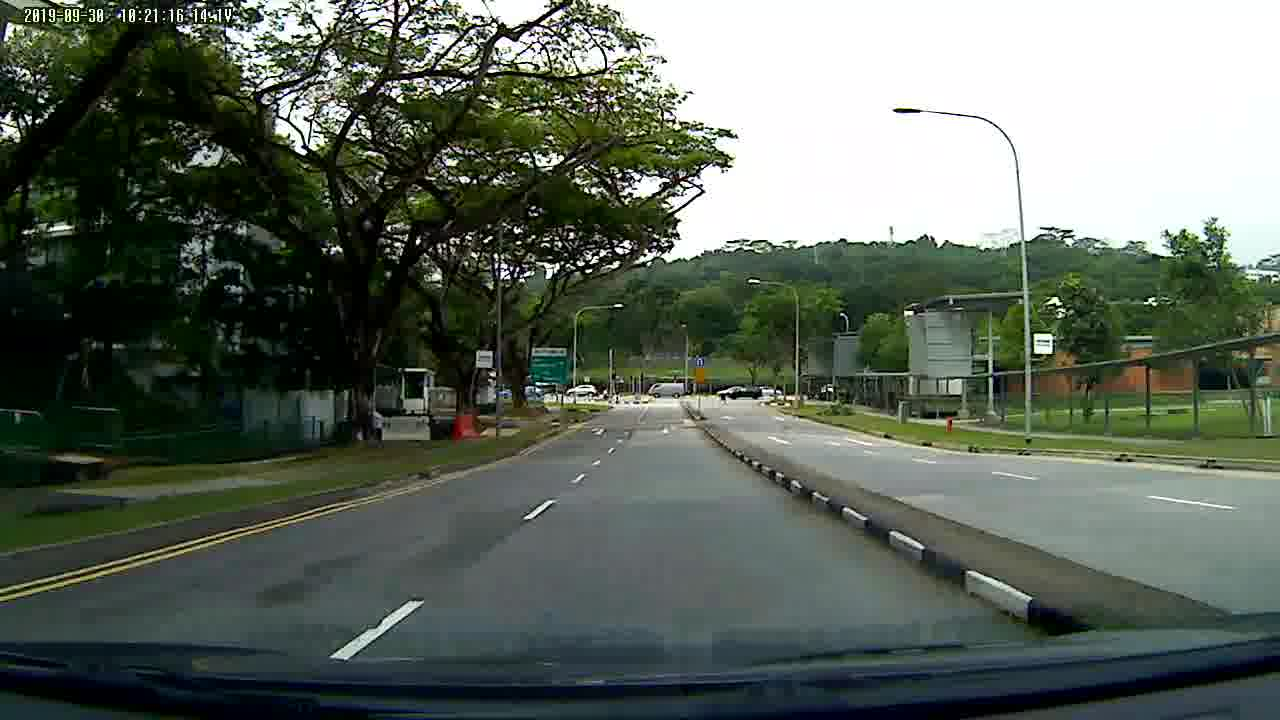car: (566, 383, 599, 399)
